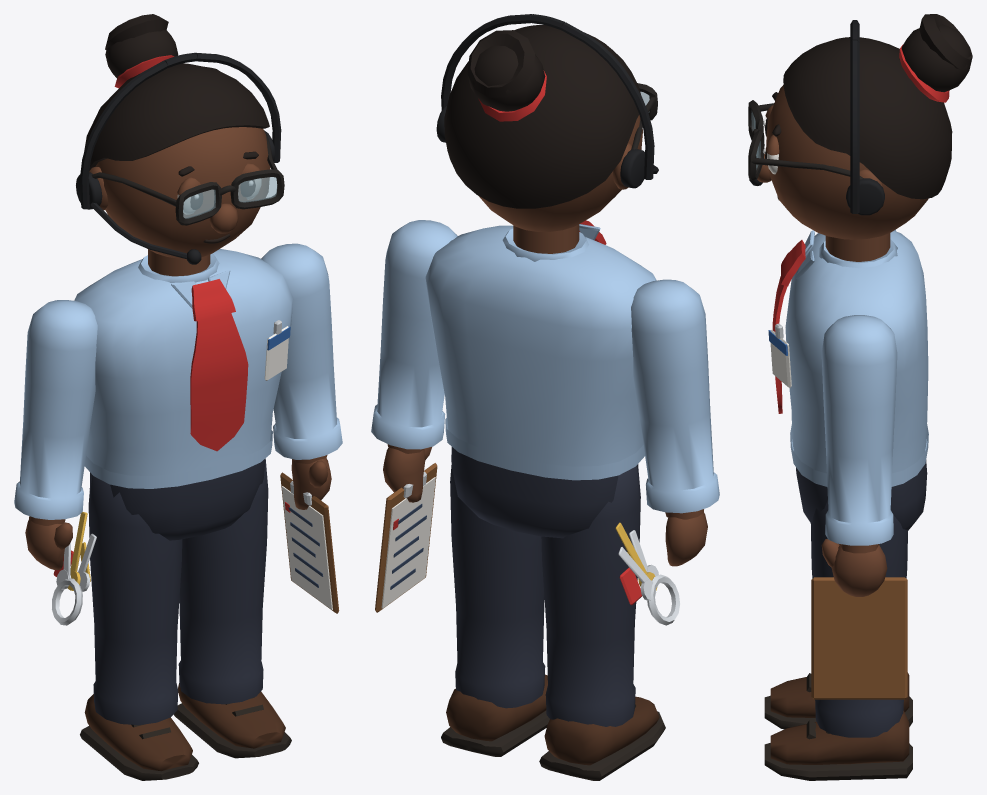
Rendered from Character_Class_night_manager.fbx.
3 renders of one model, left to right at view 1: azimuth 30°, elevation 25°; view 2: azimuth 150°, elevation 25°; view 3: azimuth 270°, elevation 25°, orthographic. The views are drawn at different scales.
Parts seen in each view (by area): view 1: Torso, LegR, LegL, ArmR, Head, BunHair, ArmL, Tie, Hips, Headset, LegR_Shoe, LegL_Shoe (+11 smaller); view 2: Torso, BunHair, LegR, ArmR, LegL, ArmL, Hips, Head, Headset, LegR_Shoe, ClipPaper, LegL_Shoe (+8 smaller); view 3: BunHair, Torso, ArmL, Clipboard, Head, LegL, LegL_Shoe, Headset, HandL, LegL_Sole, Hips, Frame (+5 smaller).
Boxes of the visible parts, box(x1,y1,x2,y2) form: Torso: box(74, 249, 293, 488); LegR: box(88, 475, 182, 724); LegL: box(178, 458, 268, 704); ArmR: box(14, 300, 97, 519); Head: box(89, 127, 270, 276); BunHair: box(84, 14, 269, 170); ArmL: box(261, 243, 342, 459); Tie: box(190, 279, 248, 451); Hips: box(89, 459, 265, 540); Headset: box(76, 52, 281, 264); LegR_Shoe: box(84, 694, 192, 771); LegL_Shoe: box(178, 683, 285, 748); Torso: box(425, 225, 656, 480); BunHair: box(444, 25, 641, 208); LegR: box(541, 465, 640, 726); ArmR: box(631, 279, 719, 513); LegL: box(450, 465, 545, 708); ArmL: box(371, 220, 457, 449); Hips: box(451, 447, 638, 538); Head: box(479, 115, 642, 253); Headset: box(436, 14, 658, 188); LegR_Shoe: box(544, 696, 659, 765); ClipPaper: box(381, 477, 435, 608); LegL_Shoe: box(446, 674, 547, 741); BunHair: box(783, 14, 972, 199); Torso: box(785, 231, 928, 486); ArmL: box(821, 315, 897, 545); Clipboard: box(811, 577, 907, 699); Head: box(757, 85, 928, 261); LegL: box(810, 500, 907, 737); LegL_Shoe: box(770, 711, 909, 764); Headset: box(749, 20, 884, 215); HandL: box(821, 539, 887, 596); LegL_Sole: box(764, 720, 912, 780); Hips: box(796, 460, 927, 530); Frame: box(748, 100, 863, 181).
Size of the model in its own units: 253 by 532 by 149.
